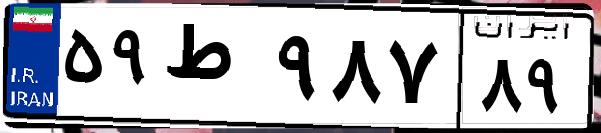5: (57, 26, 110, 100)
7: (385, 28, 445, 110)
8: (330, 28, 385, 110), (475, 38, 525, 113)
9: (270, 28, 330, 110), (525, 38, 570, 115), (110, 28, 158, 98)
ط: (158, 20, 270, 120)
